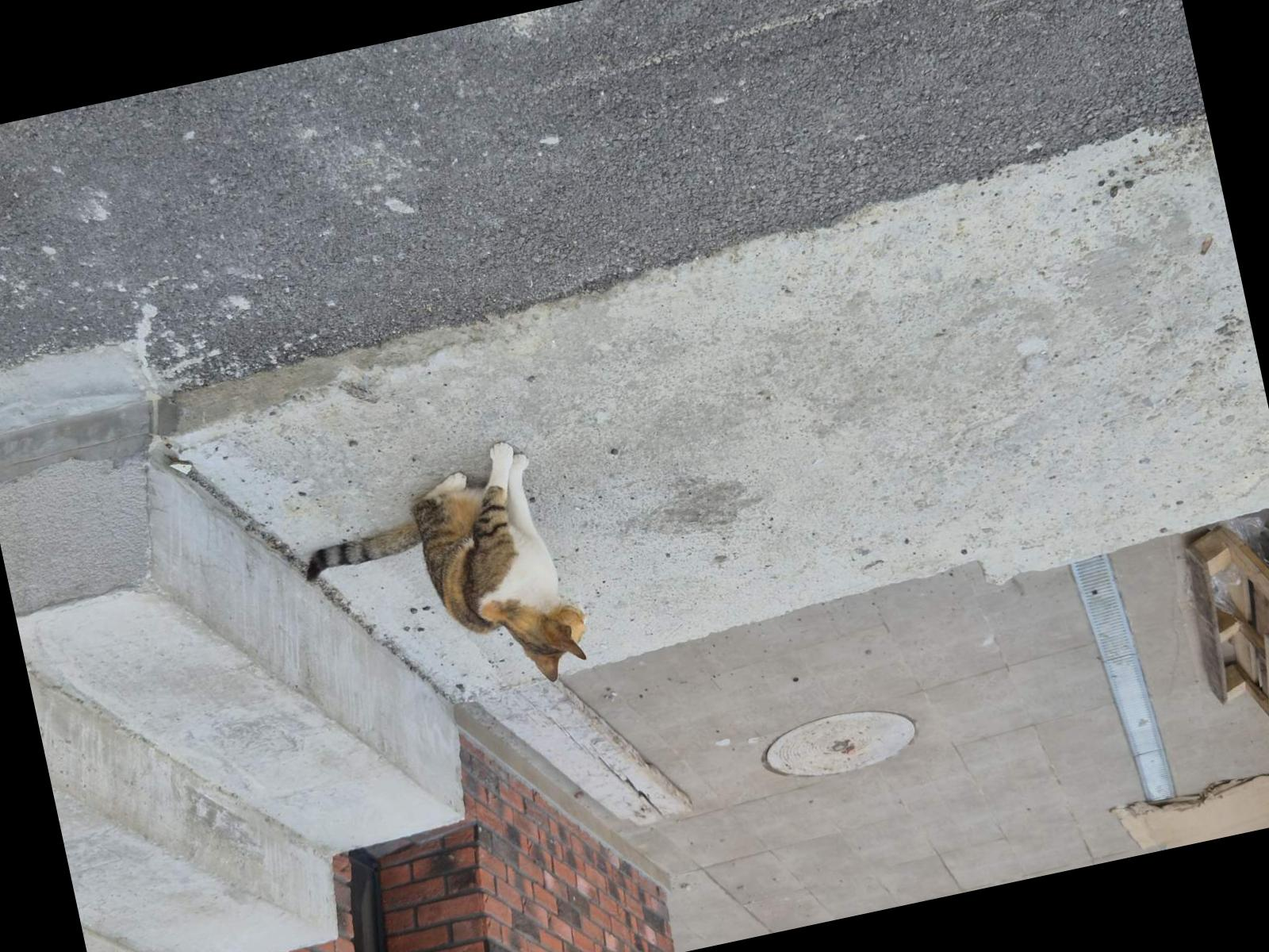macka: (288, 429, 602, 730)
